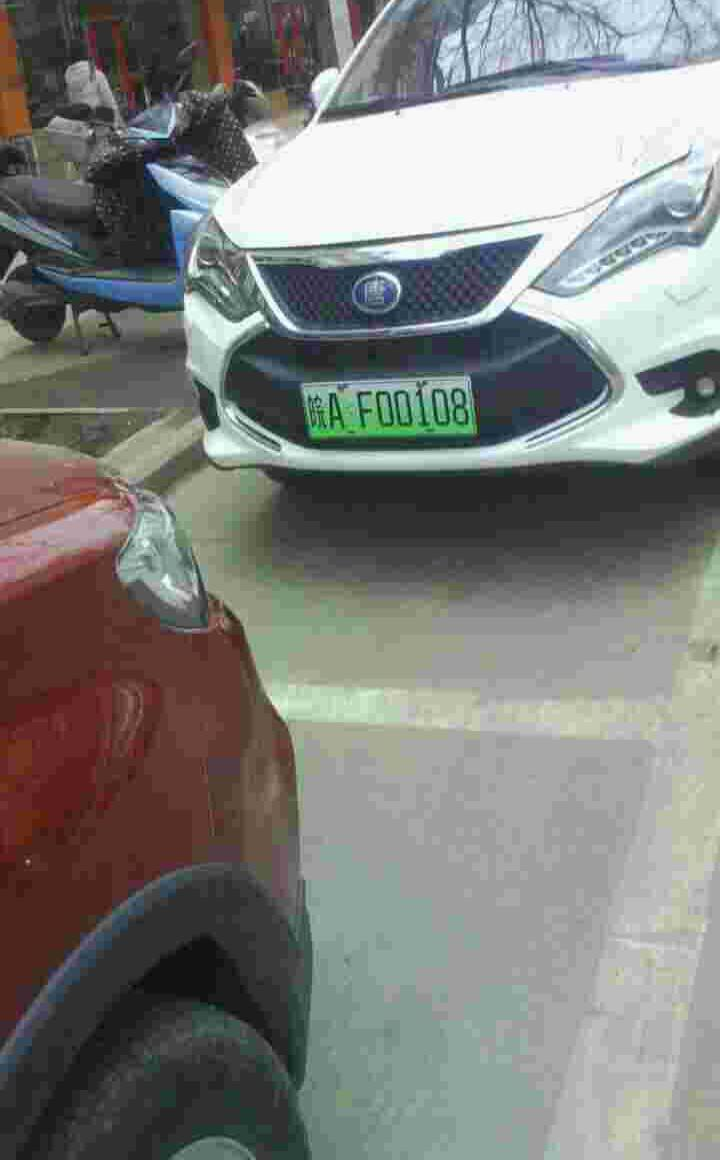car: (296, 384, 484, 435)
